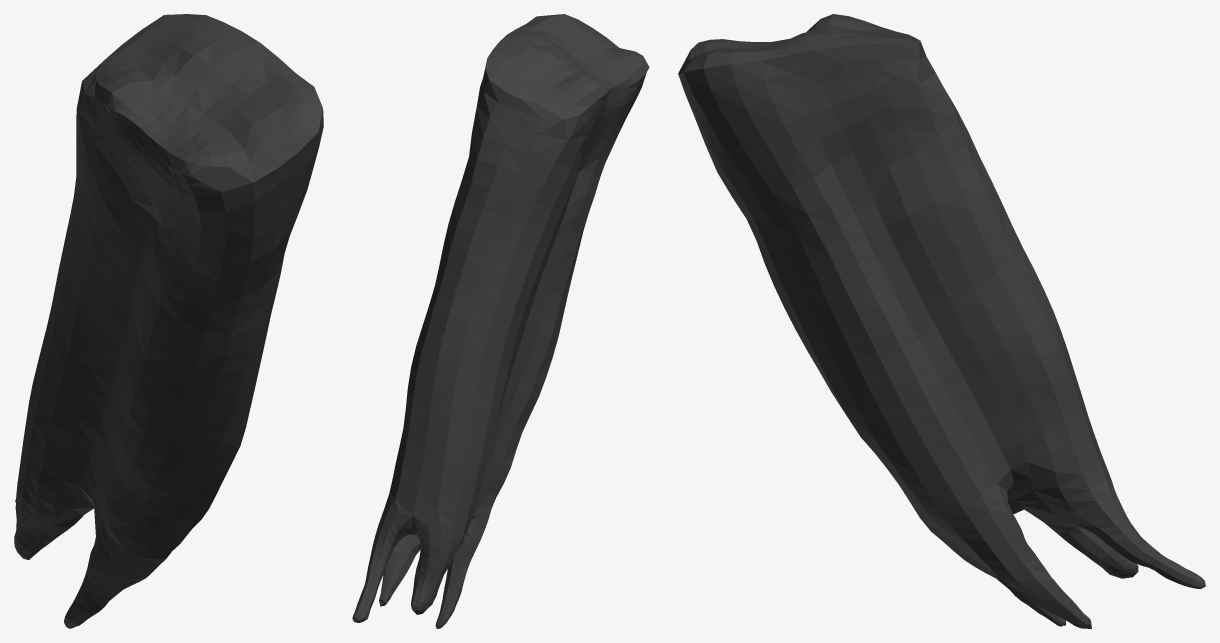
File: L_mand_M2_copy000.glb
3 renders of one model, left to right at view 1: azimuth 30°, elevation 25°; view 2: azimuth 150°, elevation 25°; view 3: azimuth 270°, elevation 25°, orthographic. The views are drawn at different scales.
Visible parts, largest first — view 1: L_mand_M2_copy000; view 2: L_mand_M2_copy000; view 3: L_mand_M2_copy000.
Boxes of the visible parts, x1,y1,x2,y2 form: L_mand_M2_copy000: (14, 14, 323, 628); L_mand_M2_copy000: (352, 14, 649, 628); L_mand_M2_copy000: (678, 14, 1205, 628).
Size of the model in its own units: 0.0901 by 0.328 by 0.2618.
1 material, 1 textured.
